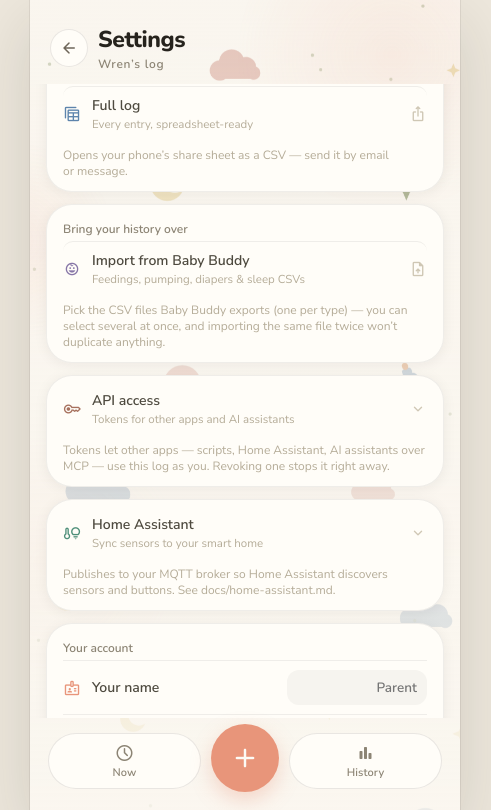
Test: API access card › shows a validation rejection inline instead of a token
(page scrolled)
Click the text "API access" at (126, 400), box left=92, top=391, right=160, bottom=410
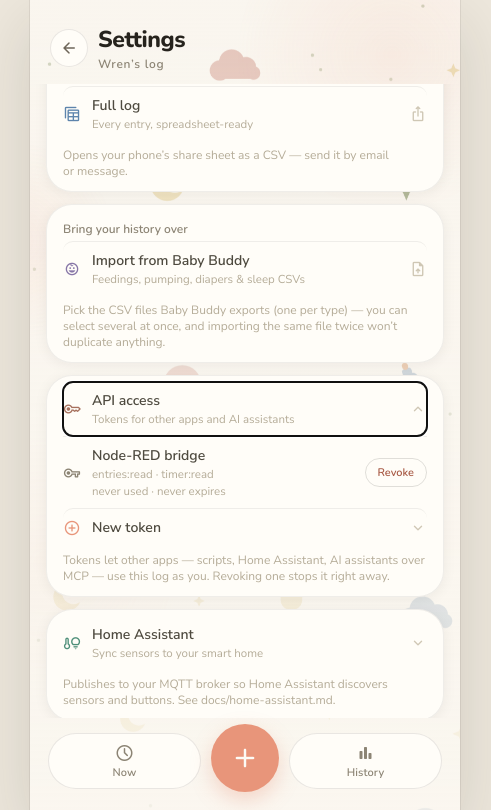
Click the text "New token" at (126, 528), box left=92, top=518, right=161, bottom=537
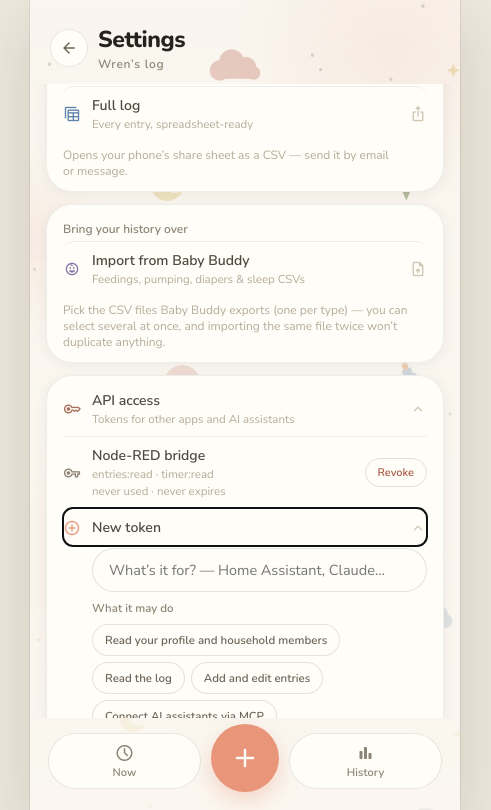
Type "app" into the field with placeholder "What’s it for? — Home Assistant, Claude…" at (260, 570), box left=92, top=548, right=427, bottom=592
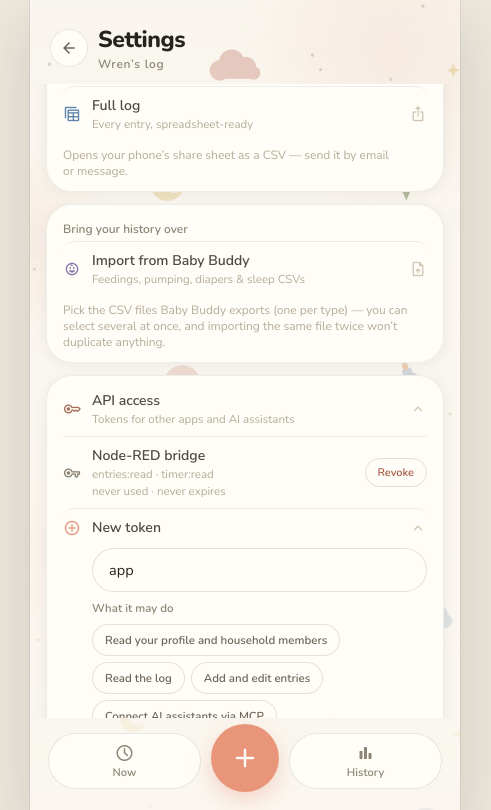
Click the button "Read the log" at (138, 678), box left=92, top=662, right=185, bottom=694
(page scrolled)
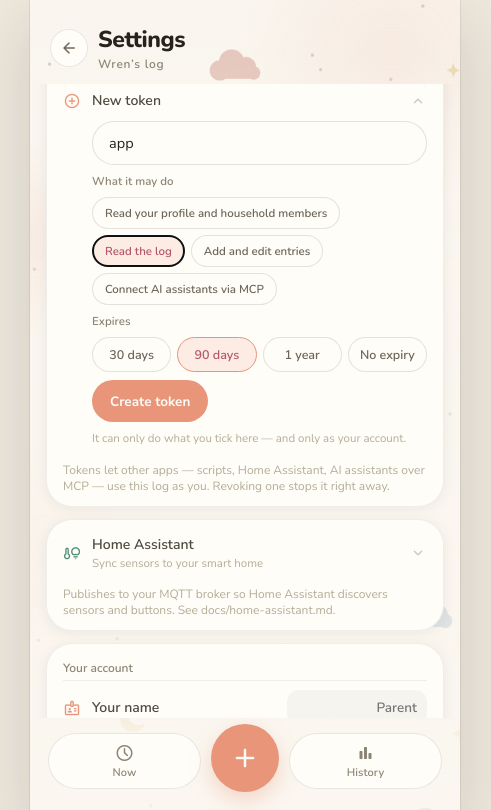
Click the button "Create token" at (150, 401), box left=92, top=380, right=208, bottom=422
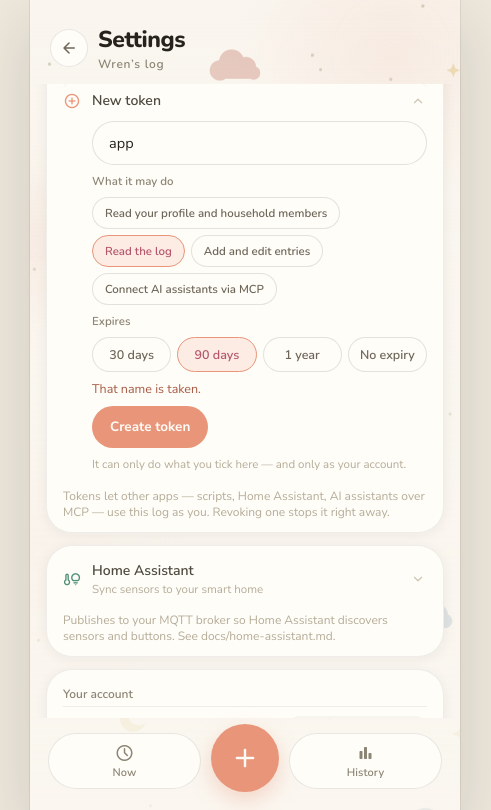
Expected: the text "That name is taken." is shown, left=92, top=380, right=201, bottom=397
